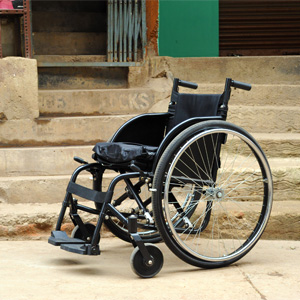wheelchair: (45, 73, 274, 277)
